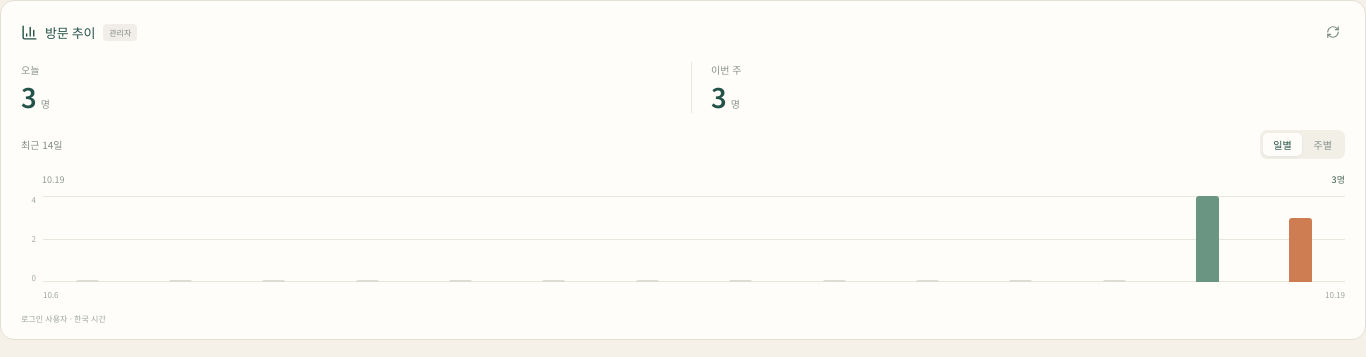
Test case: switches daily/weekly charts and exposes each period's visitor count to keyboard users
Focus the button named "10.18 방문자 4명": point(1208, 239) [1163, 196, 1252, 282]
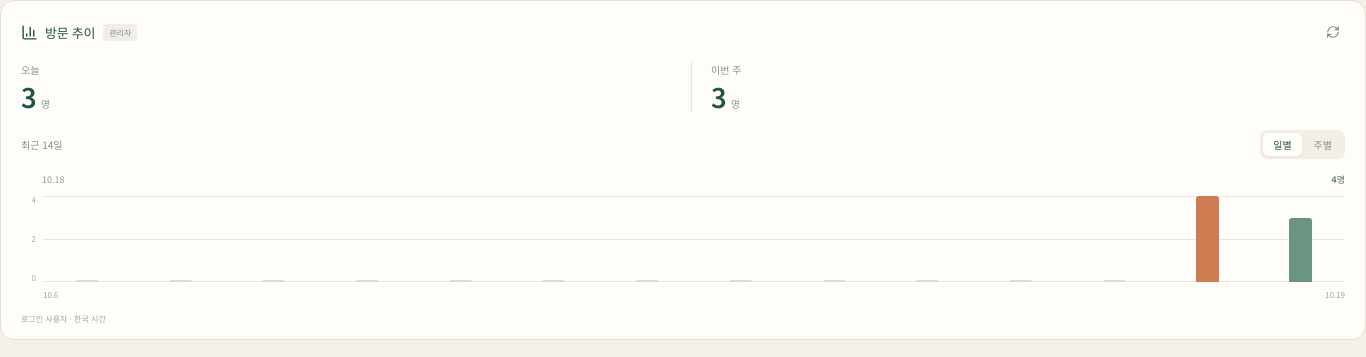
expect the button named "10.18 방문자 4명" has class "active": met, box [1163, 196, 1252, 282]
Click the button "주별": point(1323, 144) [1304, 133, 1342, 156]
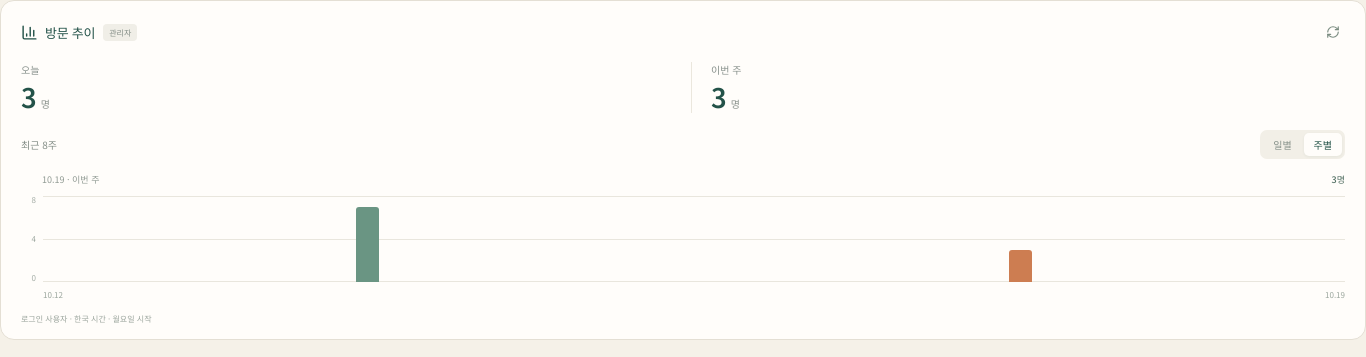
expect the button named "10.12–10.18 방문자 7명" is shown: met, box [43, 196, 692, 282]
